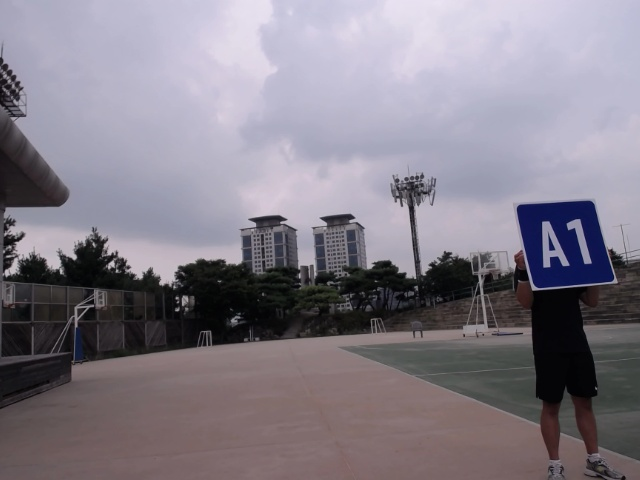delivery_a1: (516, 200, 616, 291)
